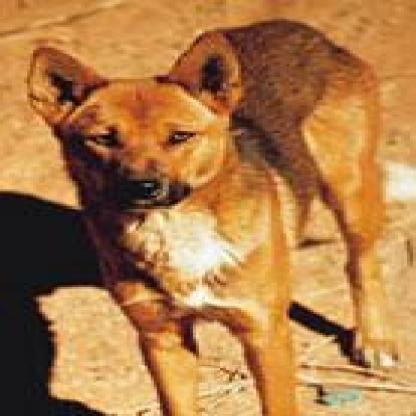dingo: (18, 14, 401, 412)
